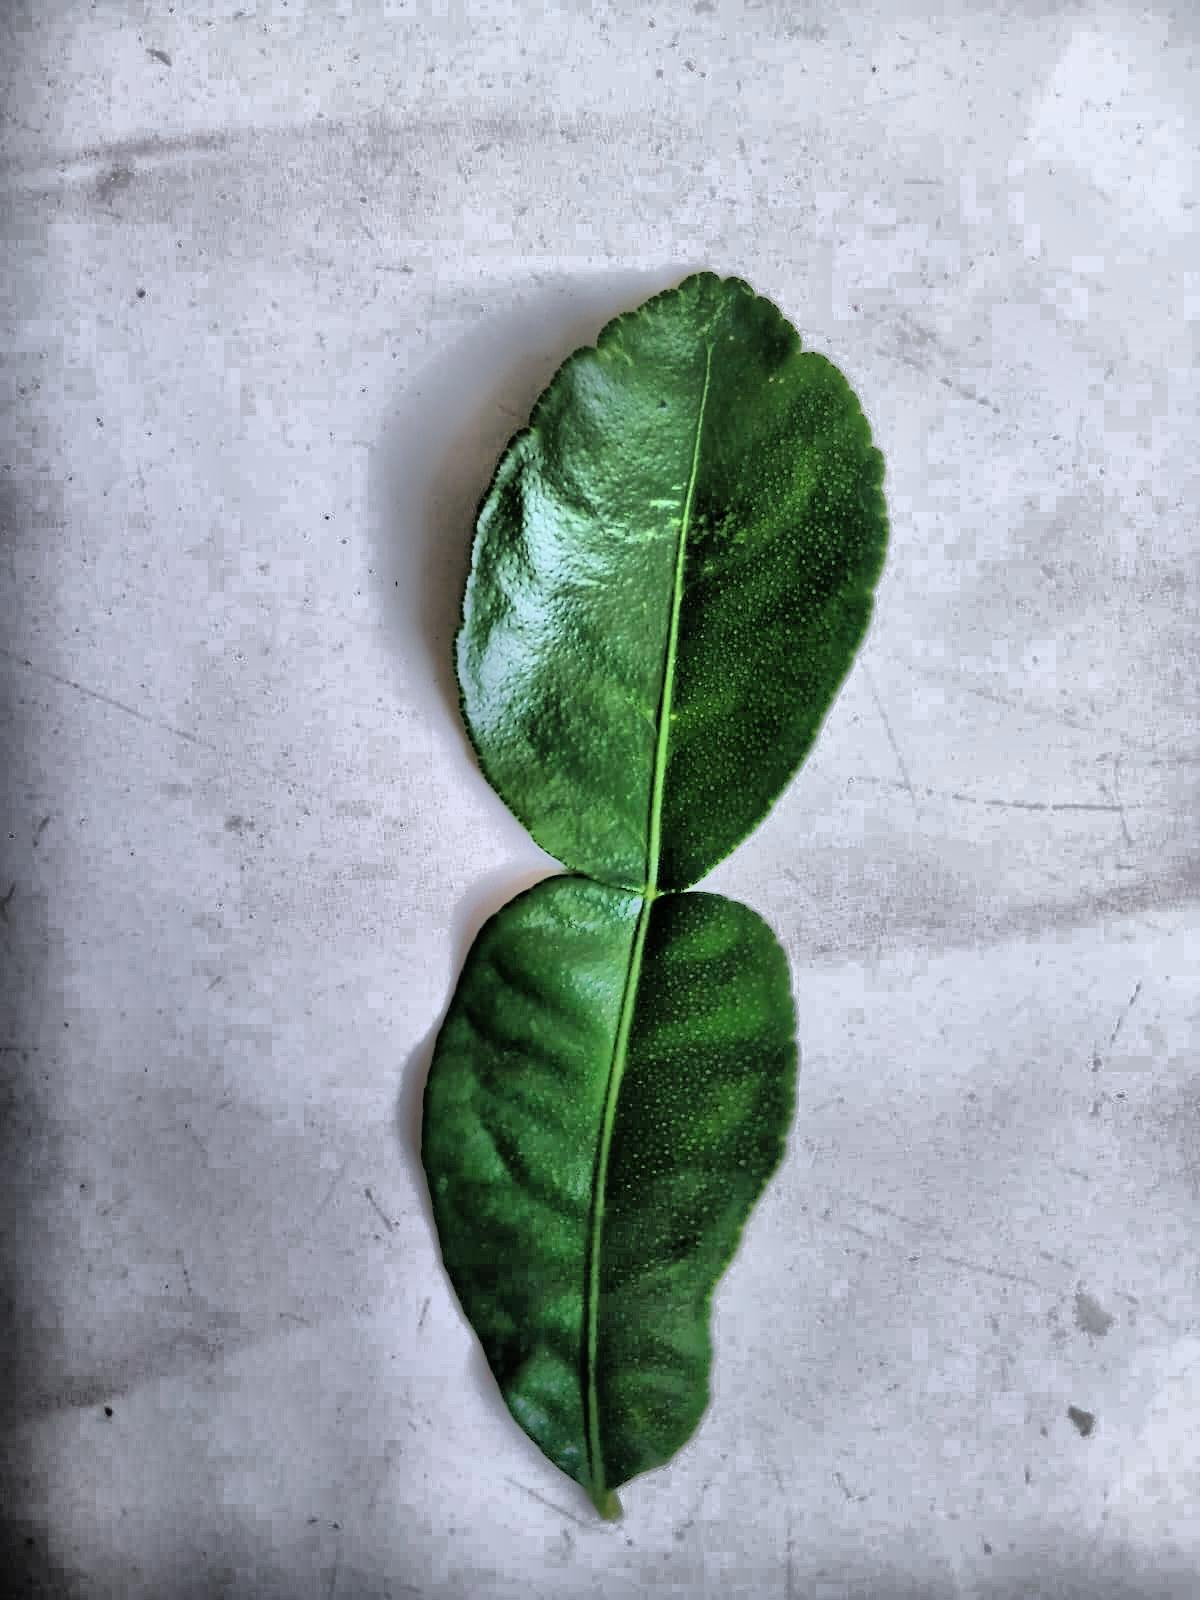daun jeruk: (422, 273, 887, 1516)
